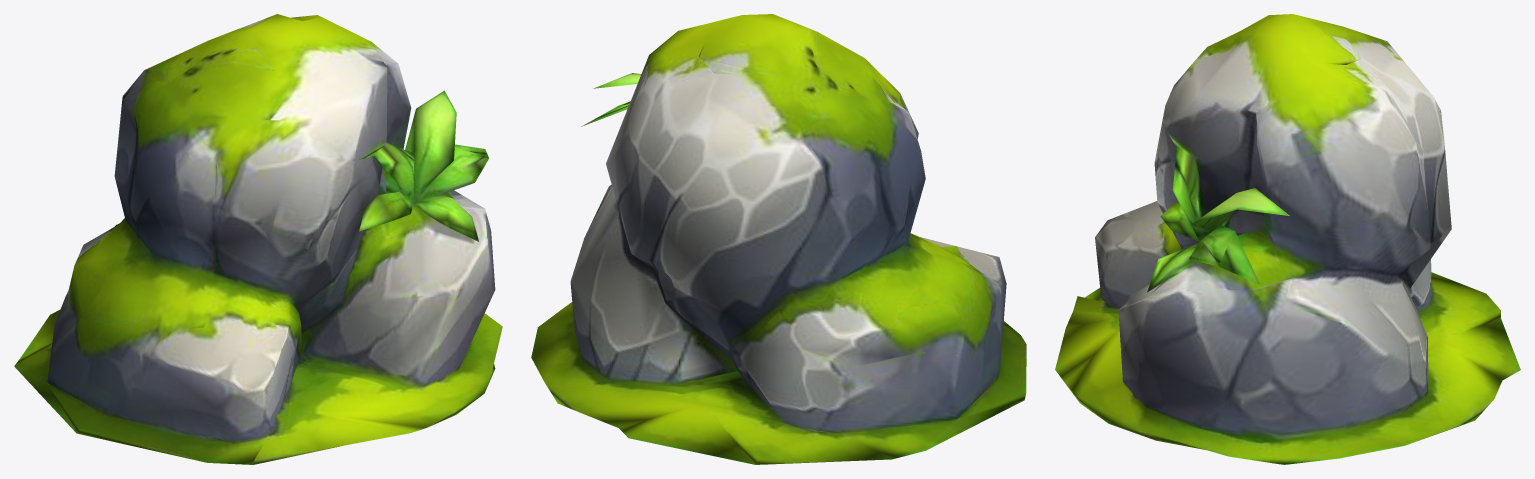
3 renders of one model, left to right at view 1: azimuth 30°, elevation 25°; view 2: azimuth 150°, elevation 25°; view 3: azimuth 270°, elevation 25°, orthographic. The views are drawn at different scales.
Visible parts, largest first — view 1: Mesh_0; view 2: Mesh_0; view 3: Mesh_0.
Part boxes in pixels (left/top/right/bottom): Mesh_0: left=14, top=14, right=502, bottom=464; Mesh_0: left=531, top=14, right=1026, bottom=464; Mesh_0: left=1055, top=14, right=1520, bottom=464.
Bounding box in the file's own units: 1.89 × 1.4 × 1.73.
Materials: 1 (1 with a texture image).
